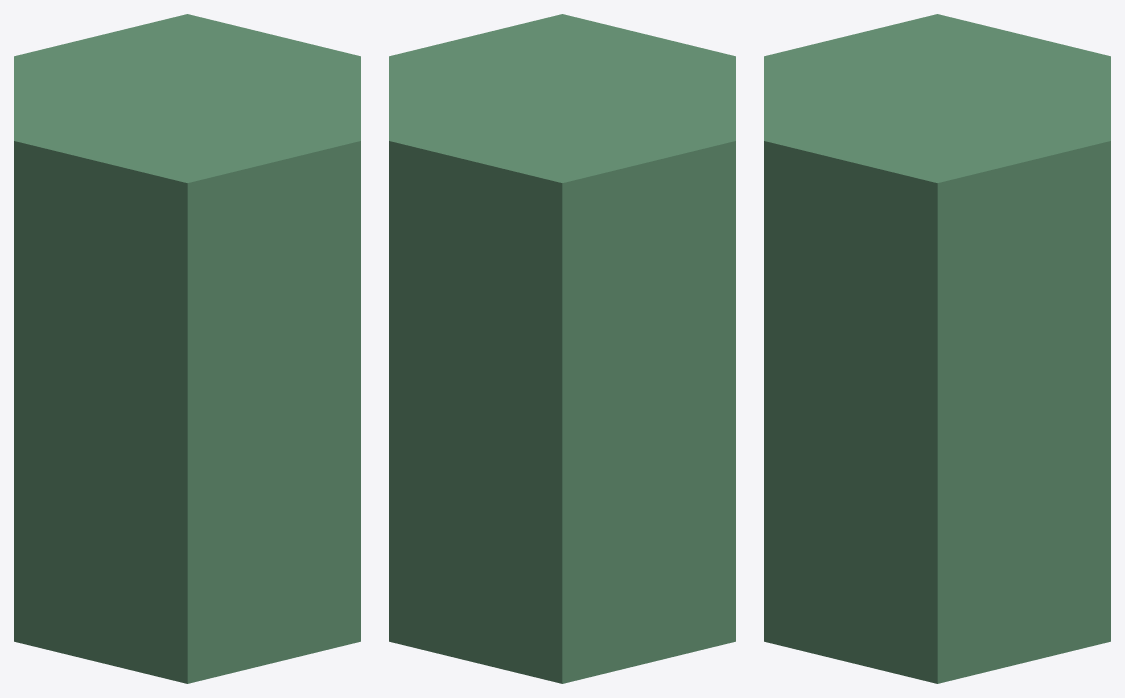
3 renders of one model, left to right at view 1: azimuth 30°, elevation 25°; view 2: azimuth 150°, elevation 25°; view 3: azimuth 270°, elevation 25°, orthographic.
Visible parts, largest first — view 1: polySurface734; view 2: polySurface734; view 3: polySurface734.
Part boxes in pixels (box(x1,y1,x2,y2)): polySurface734: box(14, 14, 360, 683); polySurface734: box(389, 14, 735, 683); polySurface734: box(764, 14, 1110, 683).
Bounding box in the file's own units: 2 × 2.76 × 1.73.
